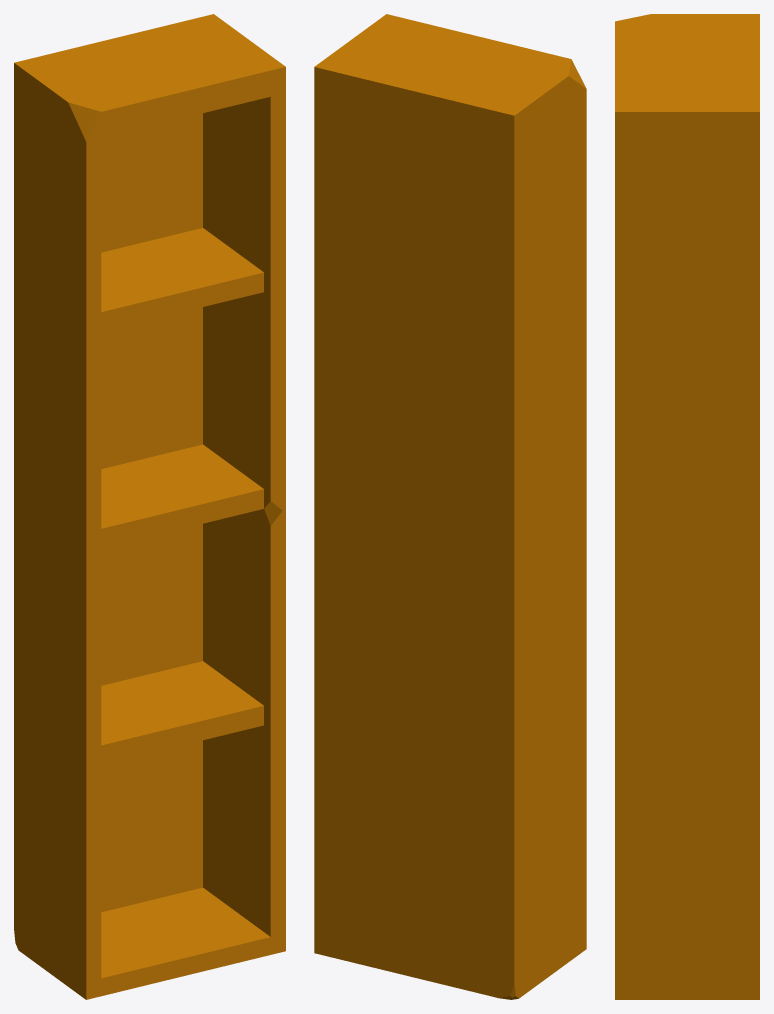
Rendered from Shelf_02.fbx.
3 views of the same model, side by side, from view 1: azimuth 30°, elevation 25°; view 2: azimuth 150°, elevation 25°; view 3: azimuth 270°, elevation 25° (orthographic).
Visible parts, largest first — view 1: Shelf_02; view 2: Shelf_02; view 3: Shelf_02.
Boxes of the visible parts, left/top/right/bottom form: Shelf_02: left=14, top=14, right=285, bottom=999; Shelf_02: left=314, top=14, right=586, bottom=999; Shelf_02: left=615, top=14, right=759, bottom=999.
Size of the model in its own units: 39.54 by 167 by 24.74.
